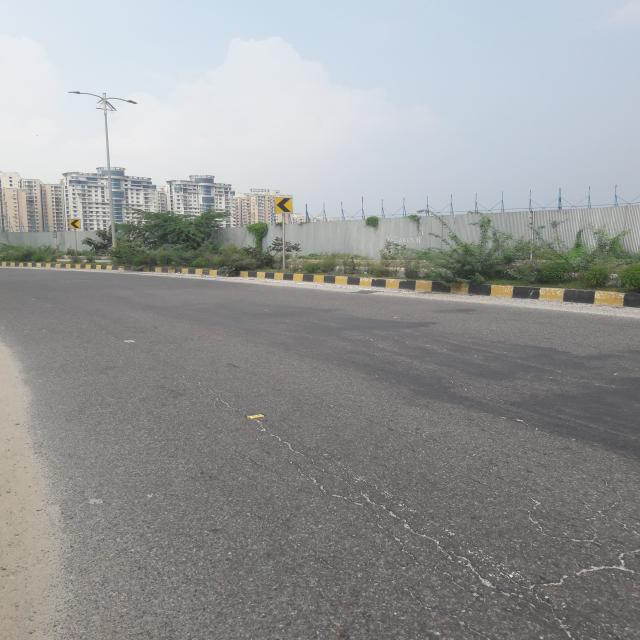TURN_LEFT: (275, 197, 293, 213), (69, 219, 81, 229)
